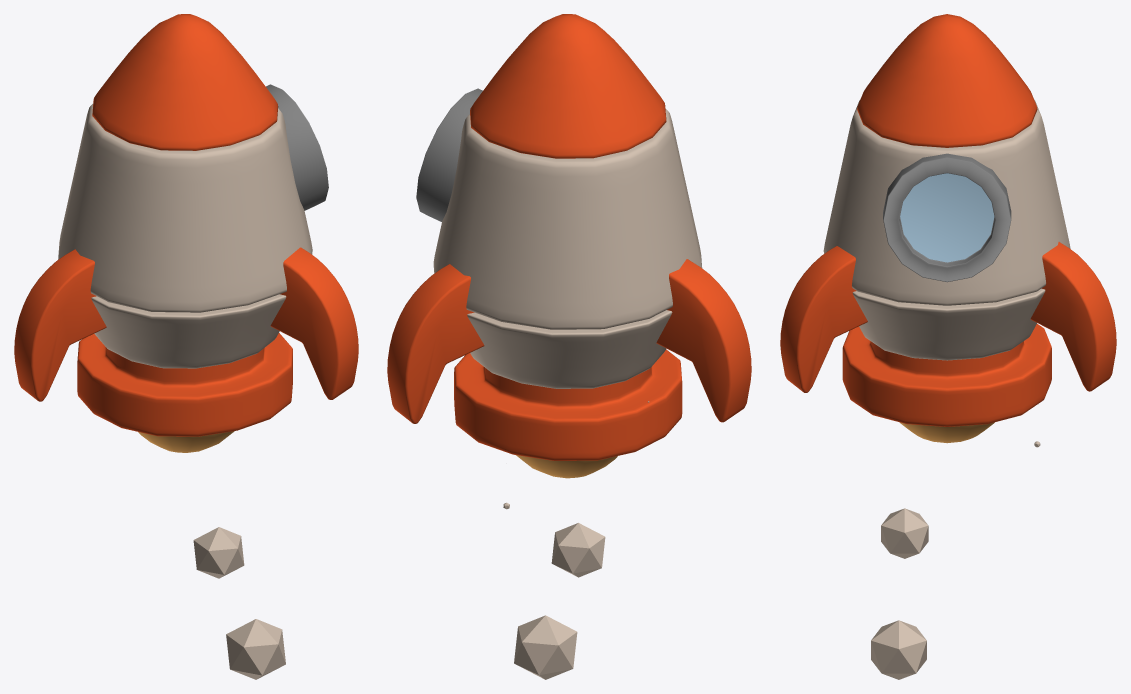
Rendered from spaceship.glb.
3 views of the same model, side by side, from view 1: azimuth 30°, elevation 25°; view 2: azimuth 150°, elevation 25°; view 3: azimuth 270°, elevation 25° (orthographic). The views are drawn at different scales.
Visible parts, largest first — view 1: rocked, Icosphere.005, Icosphere.004, rocked.001; view 2: rocked, Icosphere.005, Icosphere.004, rocked.001; view 3: rocked, Icosphere.005, Icosphere.004, rocked.001.
Part boxes in pixels (box(x1,y1,x2,y2)): rocked: box(14, 14, 358, 436); Icosphere.005: box(226, 619, 285, 679); Icosphere.004: box(193, 527, 244, 578); rocked.001: box(138, 431, 234, 452); rocked: box(387, 14, 751, 460); Icosphere.005: box(514, 615, 577, 679); Icosphere.004: box(551, 523, 605, 577); rocked.001: box(516, 455, 617, 478); rocked: box(780, 14, 1116, 426); Icosphere.005: box(871, 620, 926, 679); Icosphere.004: box(881, 508, 928, 558); rocked.001: box(900, 422, 994, 443).
Bounding box in the file's own units: 1.28 × 2.82 × 1.34.
